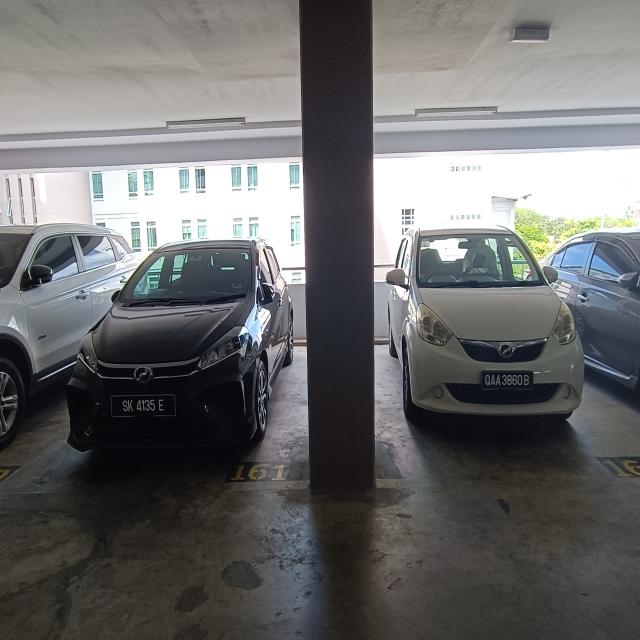PeroduaMyvi: (65, 235, 298, 450), (382, 217, 587, 444)
